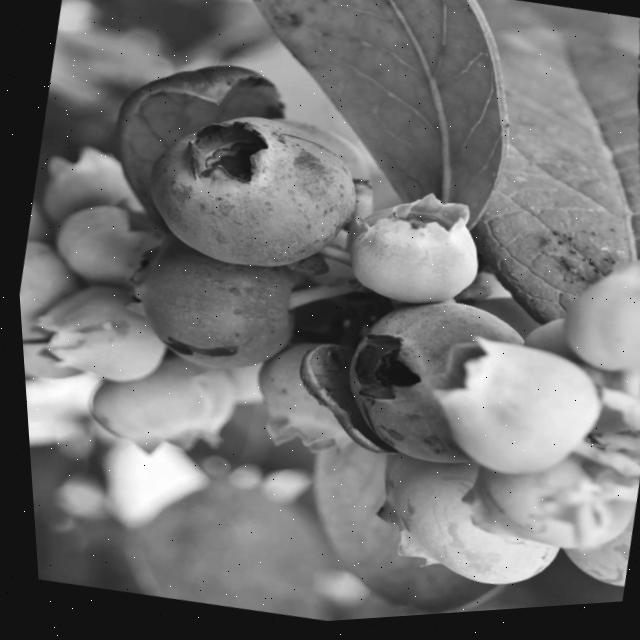RipeBlueBerry: (127, 91, 370, 294)
UnripeBlueBerry: (407, 329, 608, 497), (338, 183, 487, 319)
